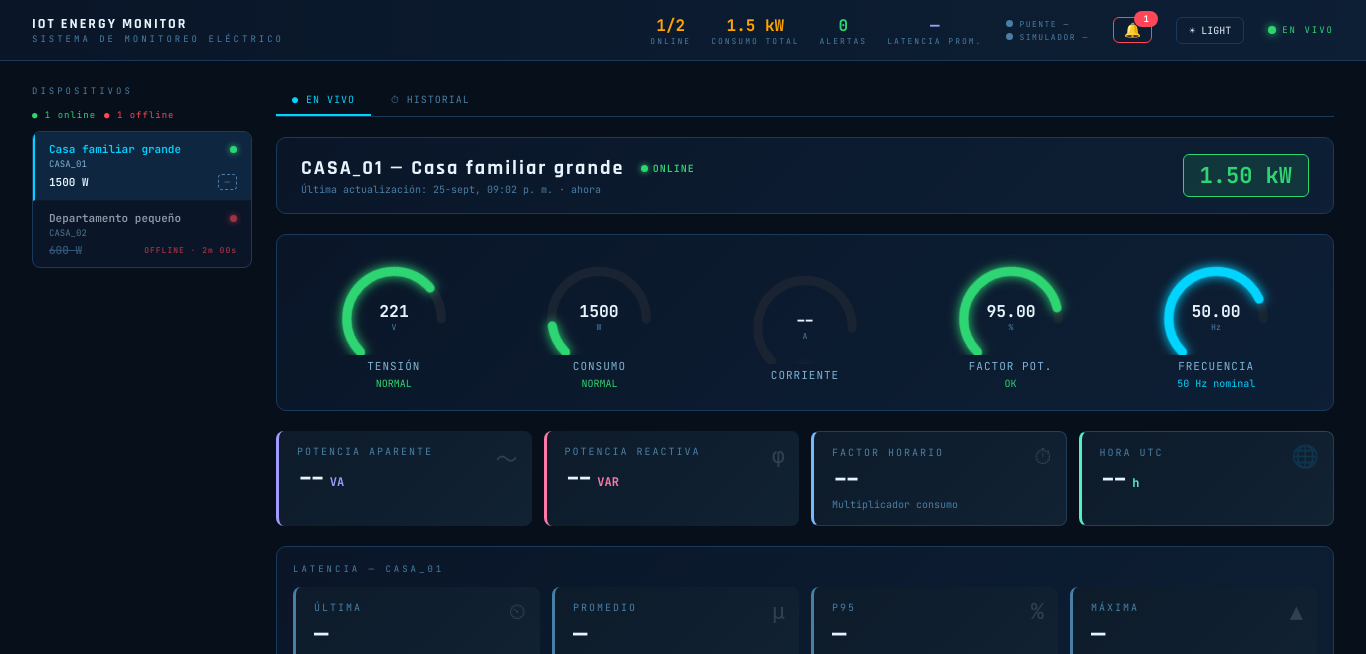
Test case: lista dispositivos y marca offline al que dejó de reportar
The image size is (1366, 654).
Expected: the text "Casa familiar grande" is shown, [49, 142, 181, 156]
Expected: the text "● 1 offline" is shown, [104, 109, 174, 121]
# Seleccionar el dispositivo offline muestra el aviso
Click the text "Departamento pequeño": [115, 218] box [49, 211, 181, 225]
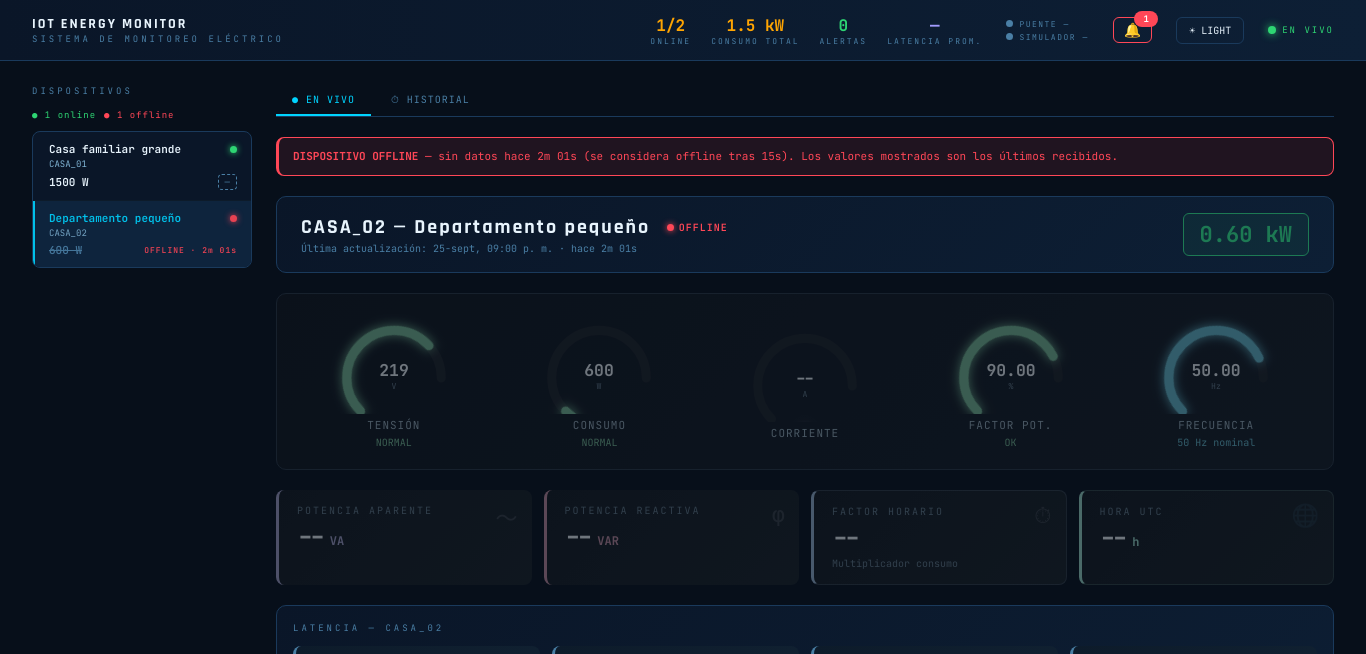
Expected: the text "DISPOSITIVO OFFLINE" is shown, [293, 149, 418, 163]
